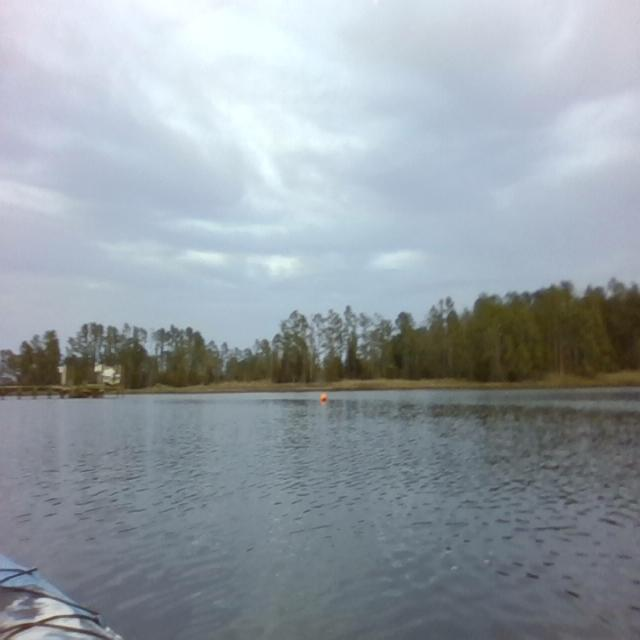Buoy: (320, 388, 327, 404)
